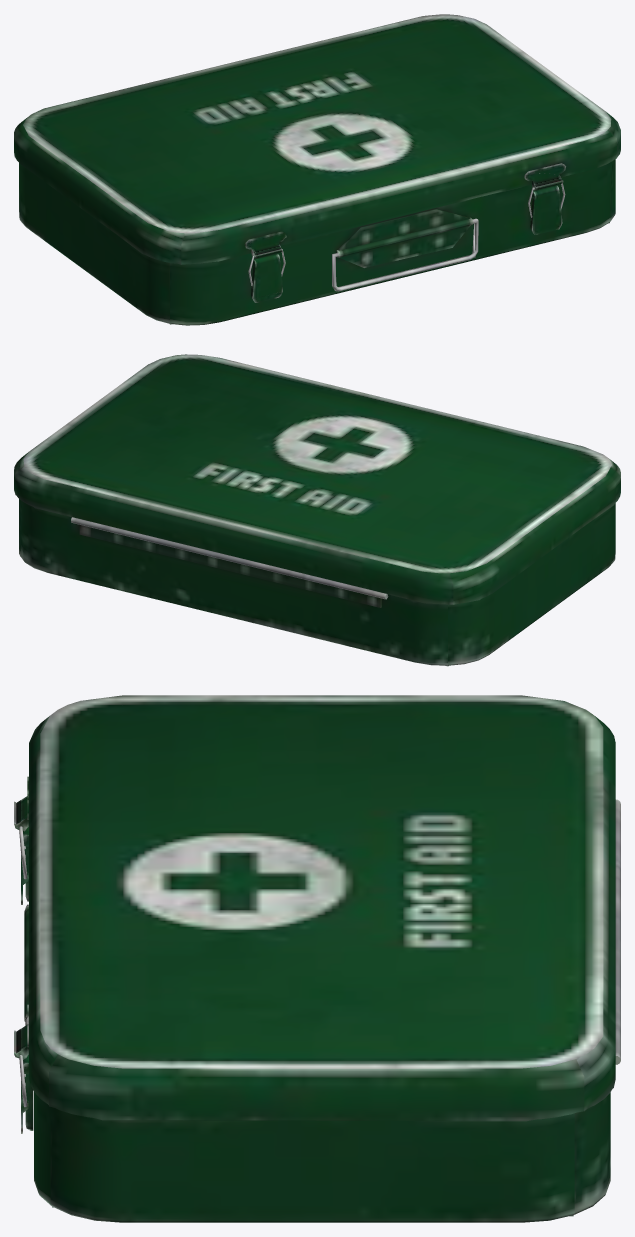
File: ph-medical_box.glb
3 renders of one model, top to bottom at view 1: azimuth 30°, elevation 25°; view 2: azimuth 150°, elevation 25°; view 3: azimuth 270°, elevation 25°, orthographic. The views are drawn at different scales.
Parts seen in each view (by area): view 1: medical_box_lid (×2), medical_box (×2), medical_box_latch (×2), medical_box_handle; view 2: medical_box_lid, medical_box; view 3: medical_box_lid (×2), medical_box.
Part boxes in pixels (left/top/right/bottom): medical_box_lid (×2): left=14, top=14, right=620, bottom=264; medical_box (×2): left=19, top=159, right=615, bottom=325; medical_box_latch (×2): left=251, top=185, right=562, bottom=302; medical_box_handle: left=332, top=218, right=478, bottom=291; medical_box_lid: left=14, top=354, right=620, bottom=604; medical_box: left=19, top=499, right=615, bottom=665; medical_box_lid (×2): left=14, top=695, right=615, bottom=1121; medical_box: left=24, top=799, right=620, bottom=1222.
Size of the model in its own units: 0.32 by 0.0594 by 0.2132.
Materials: 1 (1 with a texture image).
